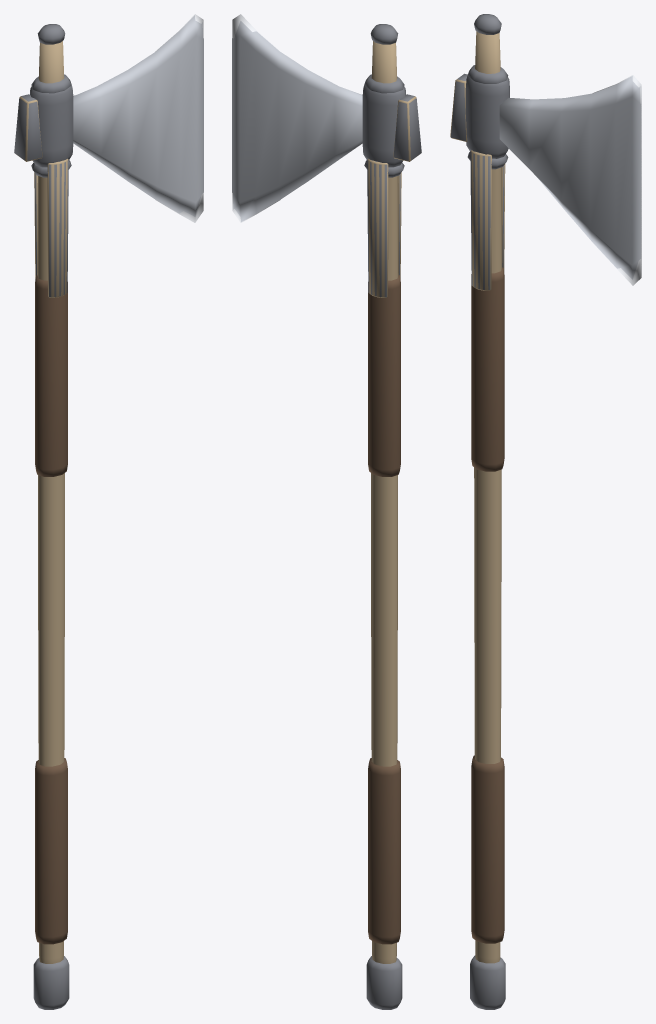
Rendered from weapon_daneaxe.glb.
The picture shows the model from 3 angles, left to right: view 1: azimuth 30°, elevation 25°; view 2: azimuth 150°, elevation 25°; view 3: azimuth 330°, elevation 25°; orthographic projection.
Visible parts, largest first — view 1: M_Weapon; view 2: M_Weapon; view 3: M_Weapon.
Boxes of the visible parts, x1,y1,x2,y2 form: M_Weapon: [14, 14, 203, 1009]; M_Weapon: [232, 14, 421, 1009]; M_Weapon: [450, 14, 641, 1009].
Size of the model in its own units: 0.3049 by 1.55 by 0.0534.
